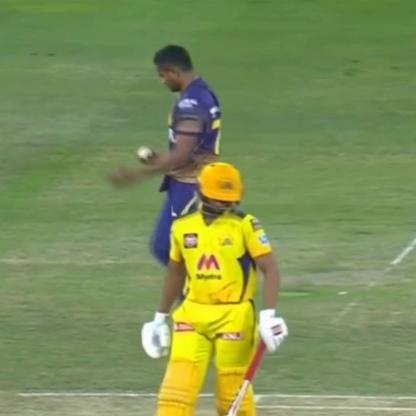ball: (130, 145, 160, 163)
